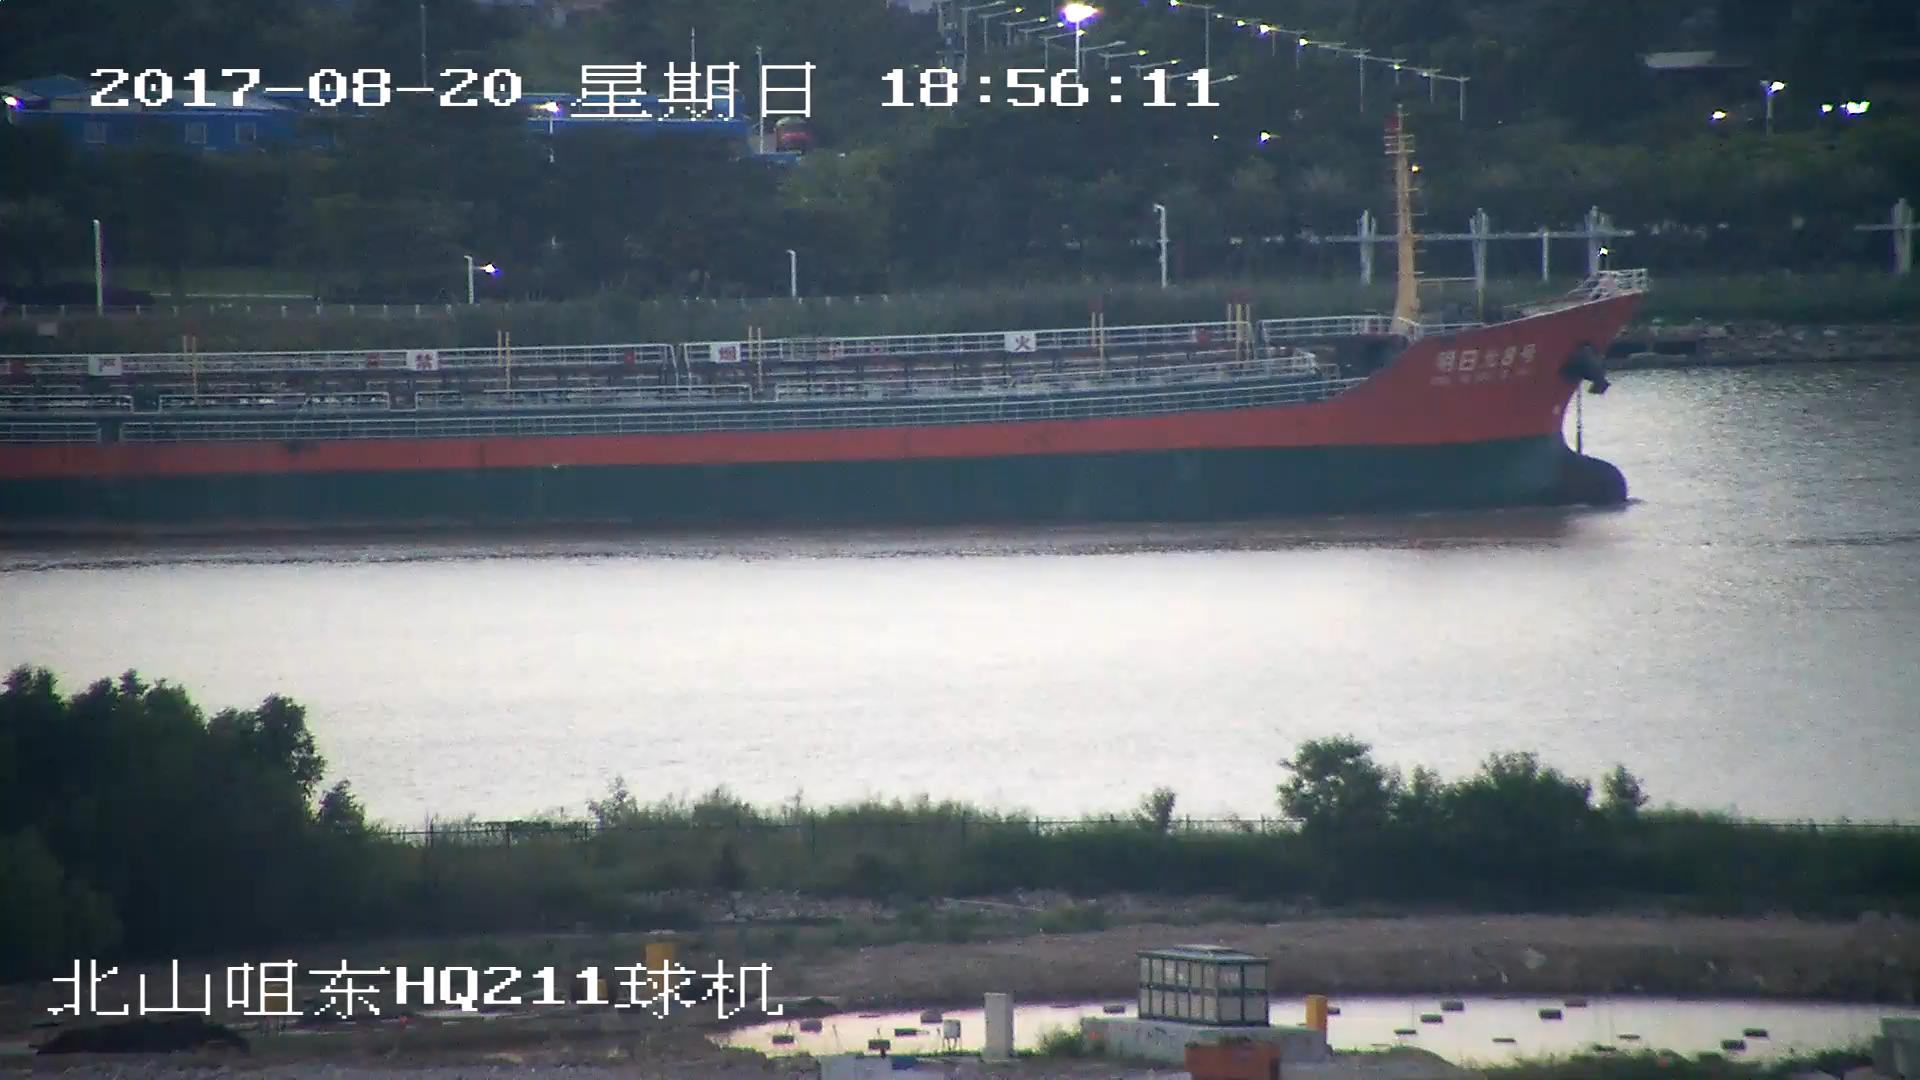general cargo ship: (1, 128, 1657, 520)
